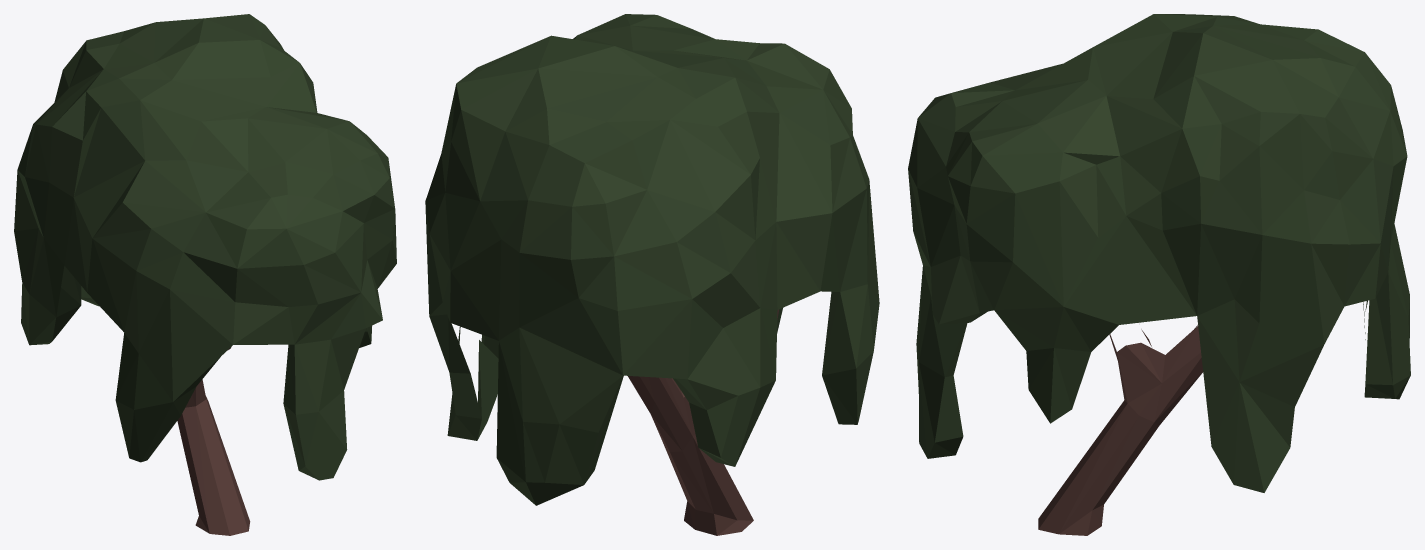
Rendered from Willow_4.glb.
3 views of the same model, side by side, from view 1: azimuth 30°, elevation 25°; view 2: azimuth 150°, elevation 25°; view 3: azimuth 270°, elevation 25° (orthographic). The views are drawn at different scales.
Visible parts, largest first — view 1: Willow_4_Cube.043; view 2: Willow_4_Cube.043; view 3: Willow_4_Cube.043.
Part boxes in pixels (left/top/right/bottom): Willow_4_Cube.043: left=14, top=14, right=396, bottom=535; Willow_4_Cube.043: left=425, top=14, right=879, bottom=535; Willow_4_Cube.043: left=908, top=14, right=1410, bottom=535.
Size of the model in its own units: 2.18 by 3.39 by 3.04.
